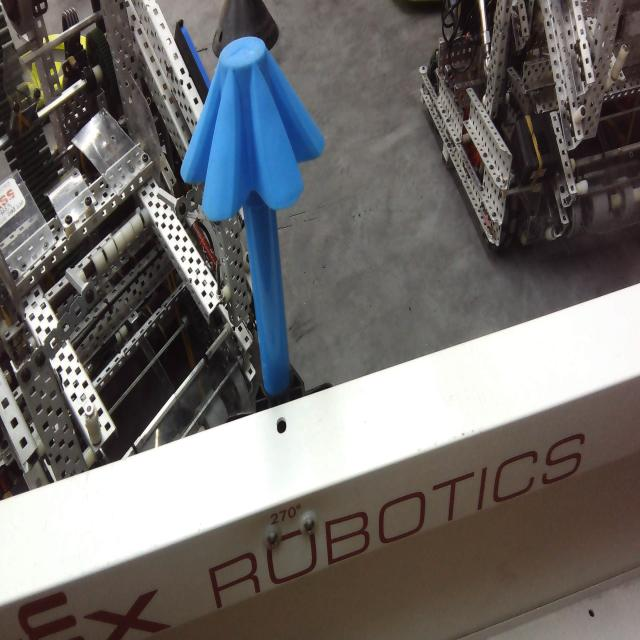zblue-Stake-Head: (178, 30, 327, 216)
